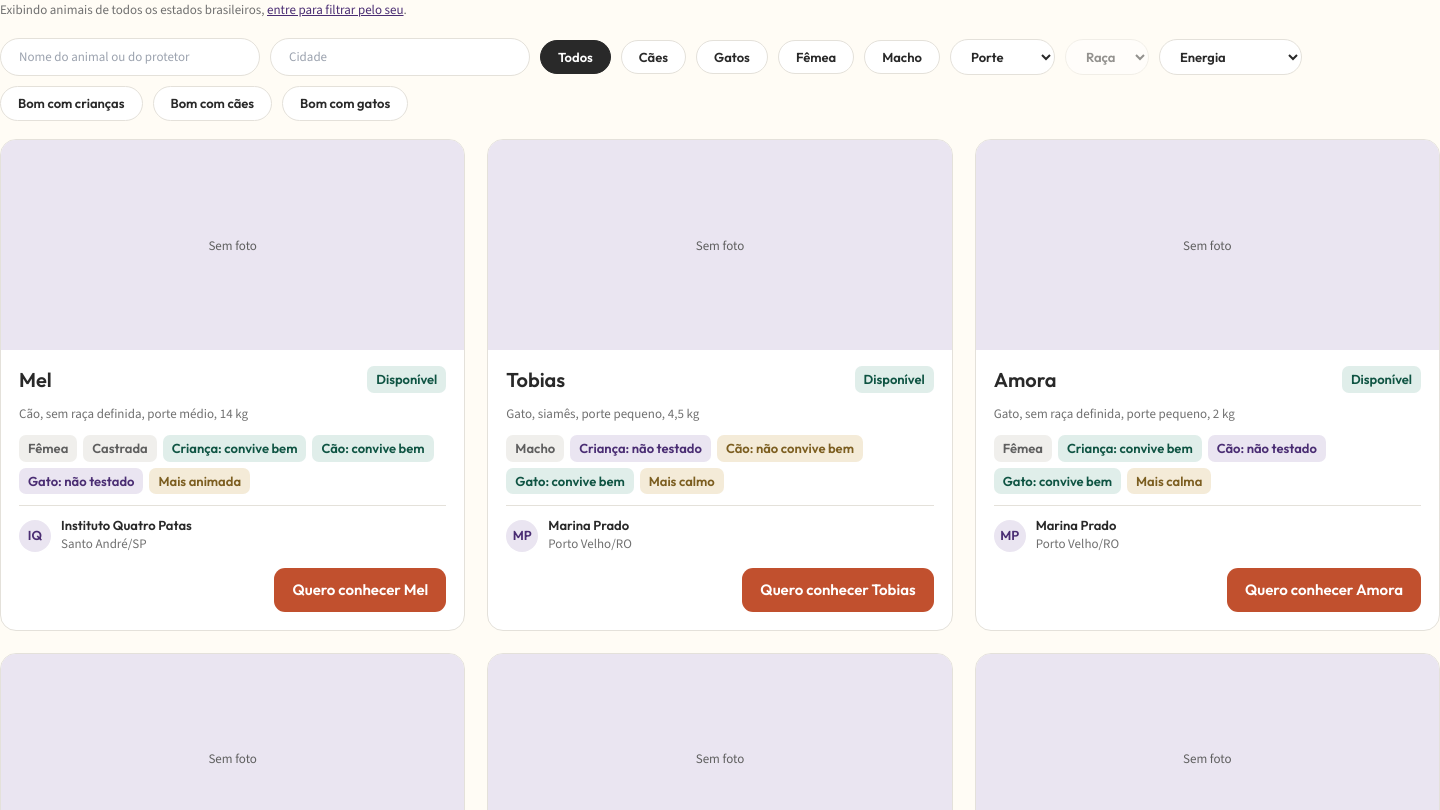
Test case: busca na API › avisa quando nada combina com o filtro e deixa ver todos de novo
Select "Grande" in the dropdown named "Porte" at (1002, 57), box left=950, top=39, right=1055, bottom=75
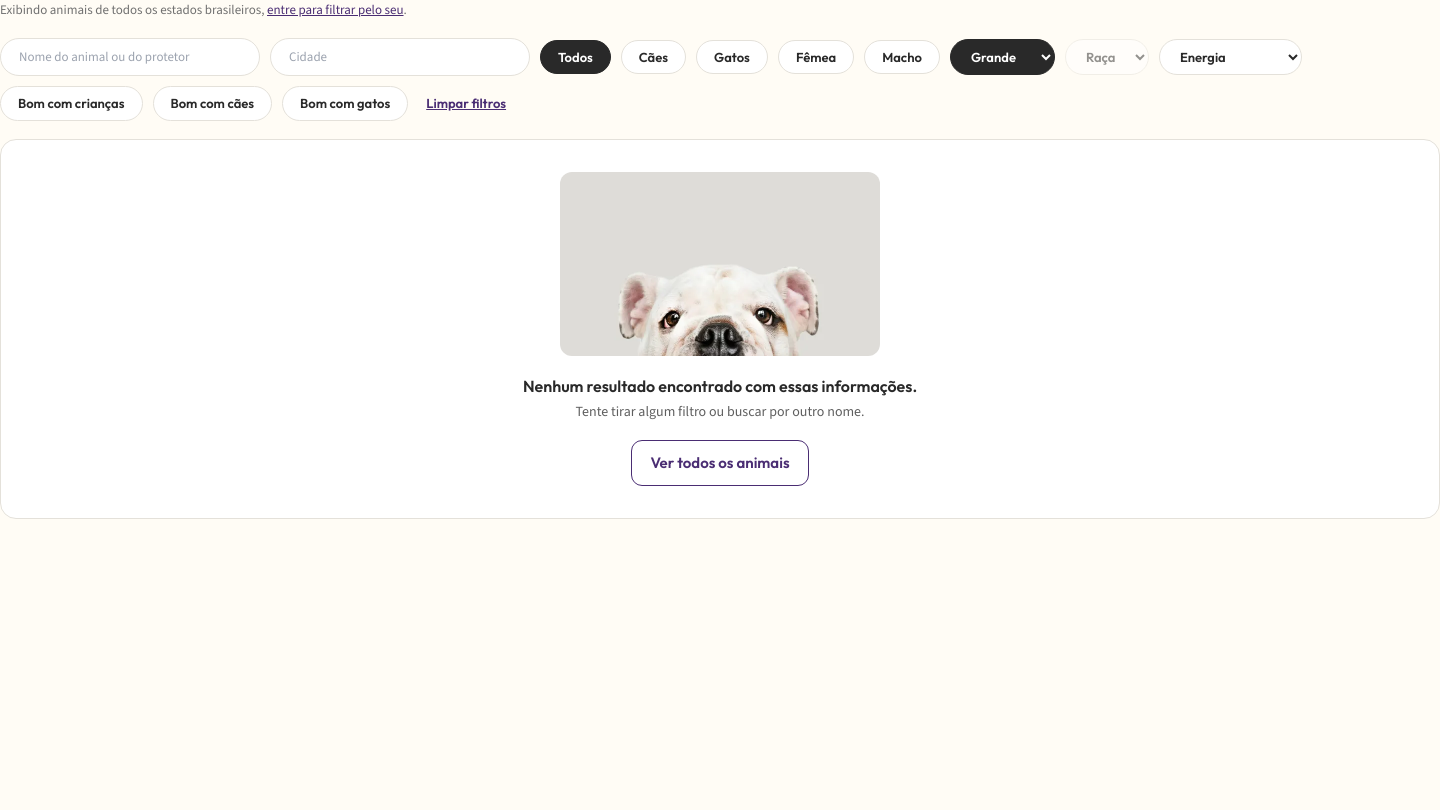
Check: the text "Nenhum resultado encontrado com essas informações." is shown, box left=523, top=376, right=917, bottom=396
Click the button "Ver todos os animais" at (720, 463), box left=631, top=440, right=809, bottom=486
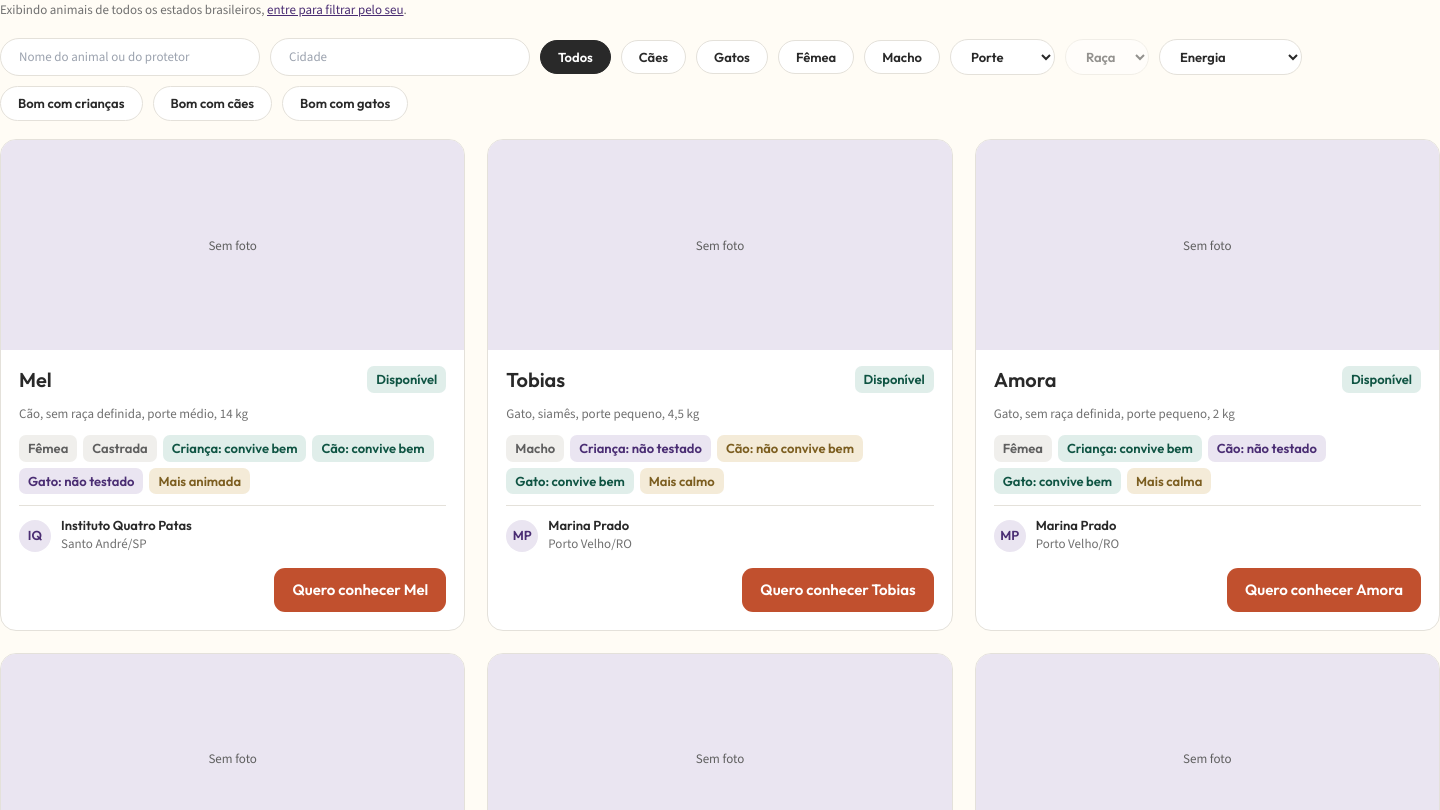
Check: the number of headings is 6
